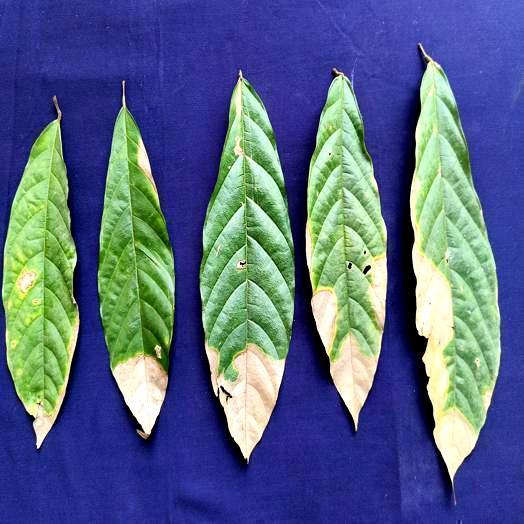Potassium: (410, 46, 498, 483), (200, 71, 294, 461), (306, 69, 386, 427), (98, 82, 174, 438), (2, 97, 78, 447)
